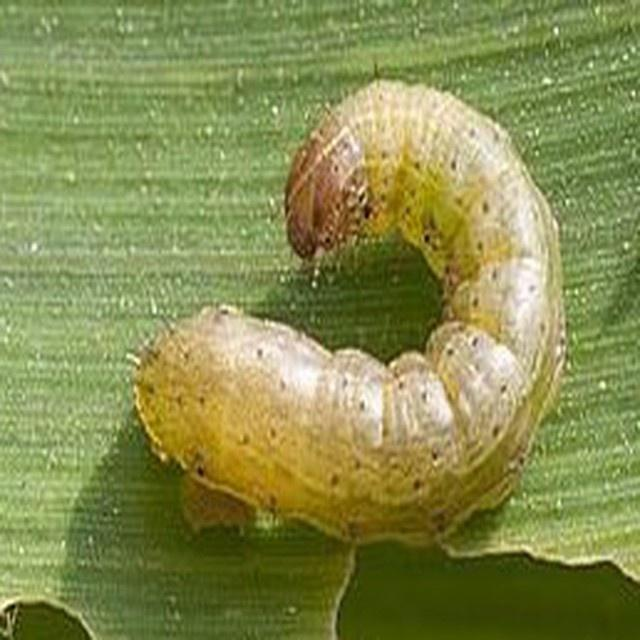gusano_cogollero: (128, 70, 574, 553)
